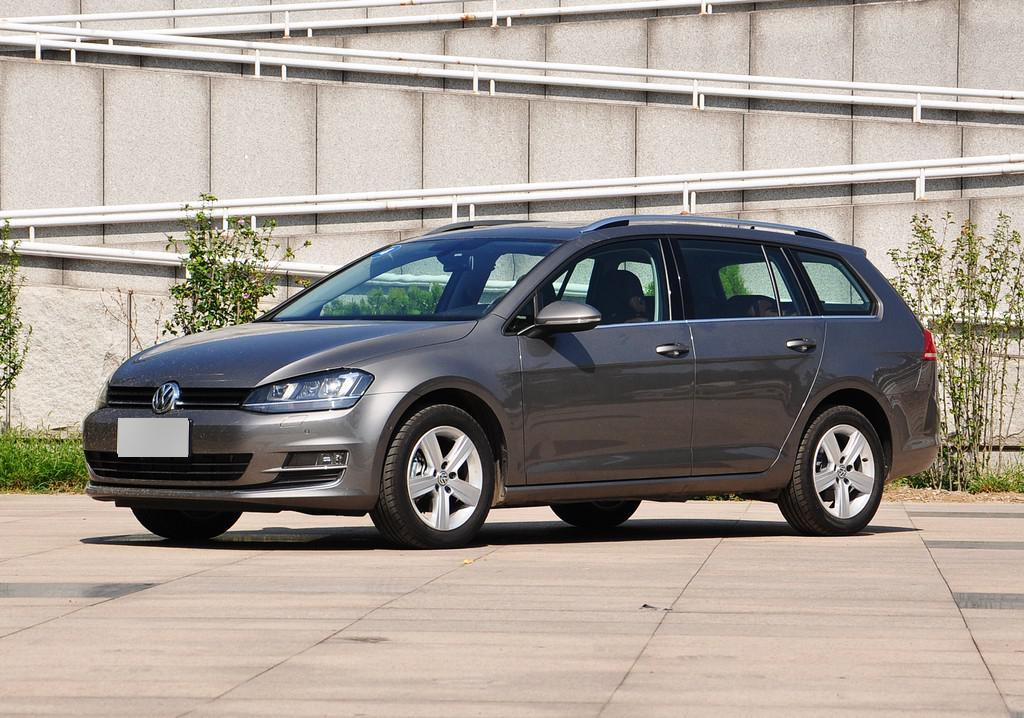Wagon: (82, 214, 944, 548)
